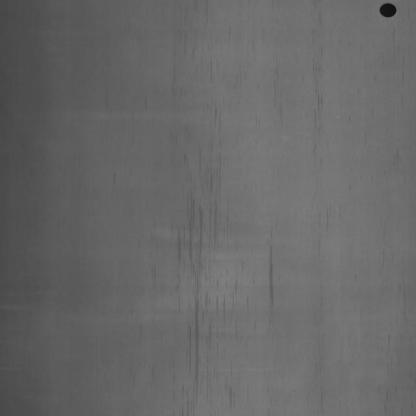oil_spot: (176, 61, 244, 396), (307, 26, 333, 150), (258, 234, 280, 328)
punching_hole: (375, 0, 398, 22)
